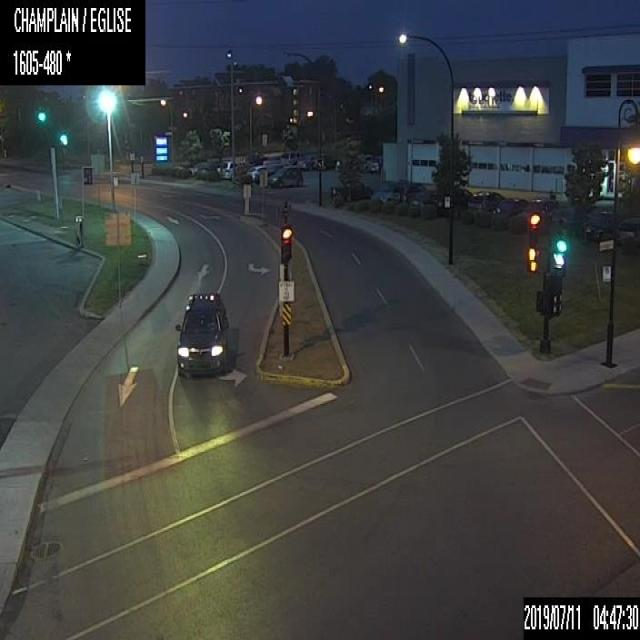vehicle: (174, 290, 230, 378), (432, 187, 472, 216), (516, 198, 552, 229), (330, 178, 372, 200), (392, 180, 432, 202), (585, 209, 614, 239), (468, 189, 504, 211), (269, 164, 303, 187), (492, 196, 526, 216), (616, 214, 639, 243), (370, 179, 398, 202), (247, 163, 276, 182), (217, 159, 241, 178), (189, 160, 216, 174), (297, 151, 318, 169), (280, 149, 302, 166)
